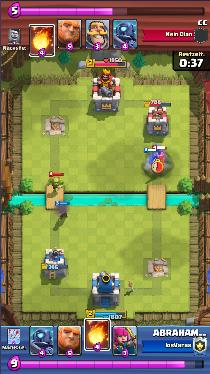ally_goblin_cage: (46, 177, 66, 192)
ally_knight: (145, 150, 158, 171)
ally_musketeer: (54, 202, 69, 220)
enemy_musketeer: (156, 148, 165, 165)
